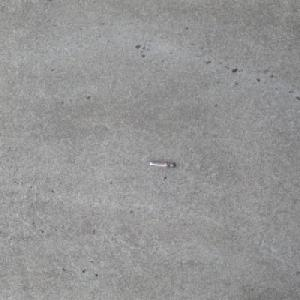Battery: (148, 161, 176, 167)
